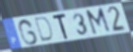2: (106, 5, 127, 34)
3: (72, 12, 89, 37)
D: (34, 16, 55, 43)
G: (17, 18, 40, 47)
M: (84, 6, 113, 37)
T: (52, 12, 70, 41)
